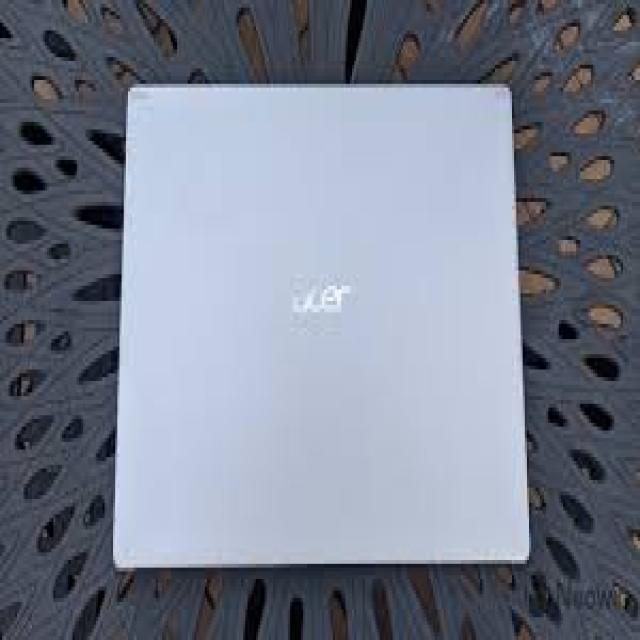laptop: (111, 80, 531, 571)
